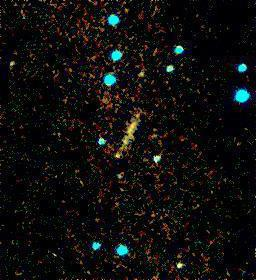star: (104, 143, 134, 173)
